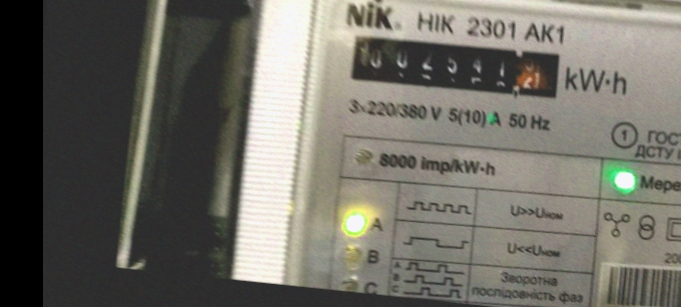0: (366, 42, 386, 69), (394, 41, 410, 70)
1: (493, 50, 509, 78)
2: (418, 44, 436, 70)
4: (470, 48, 485, 72)
5: (443, 45, 463, 75)
6: (519, 69, 536, 89)
screen: (337, 17, 577, 112)
